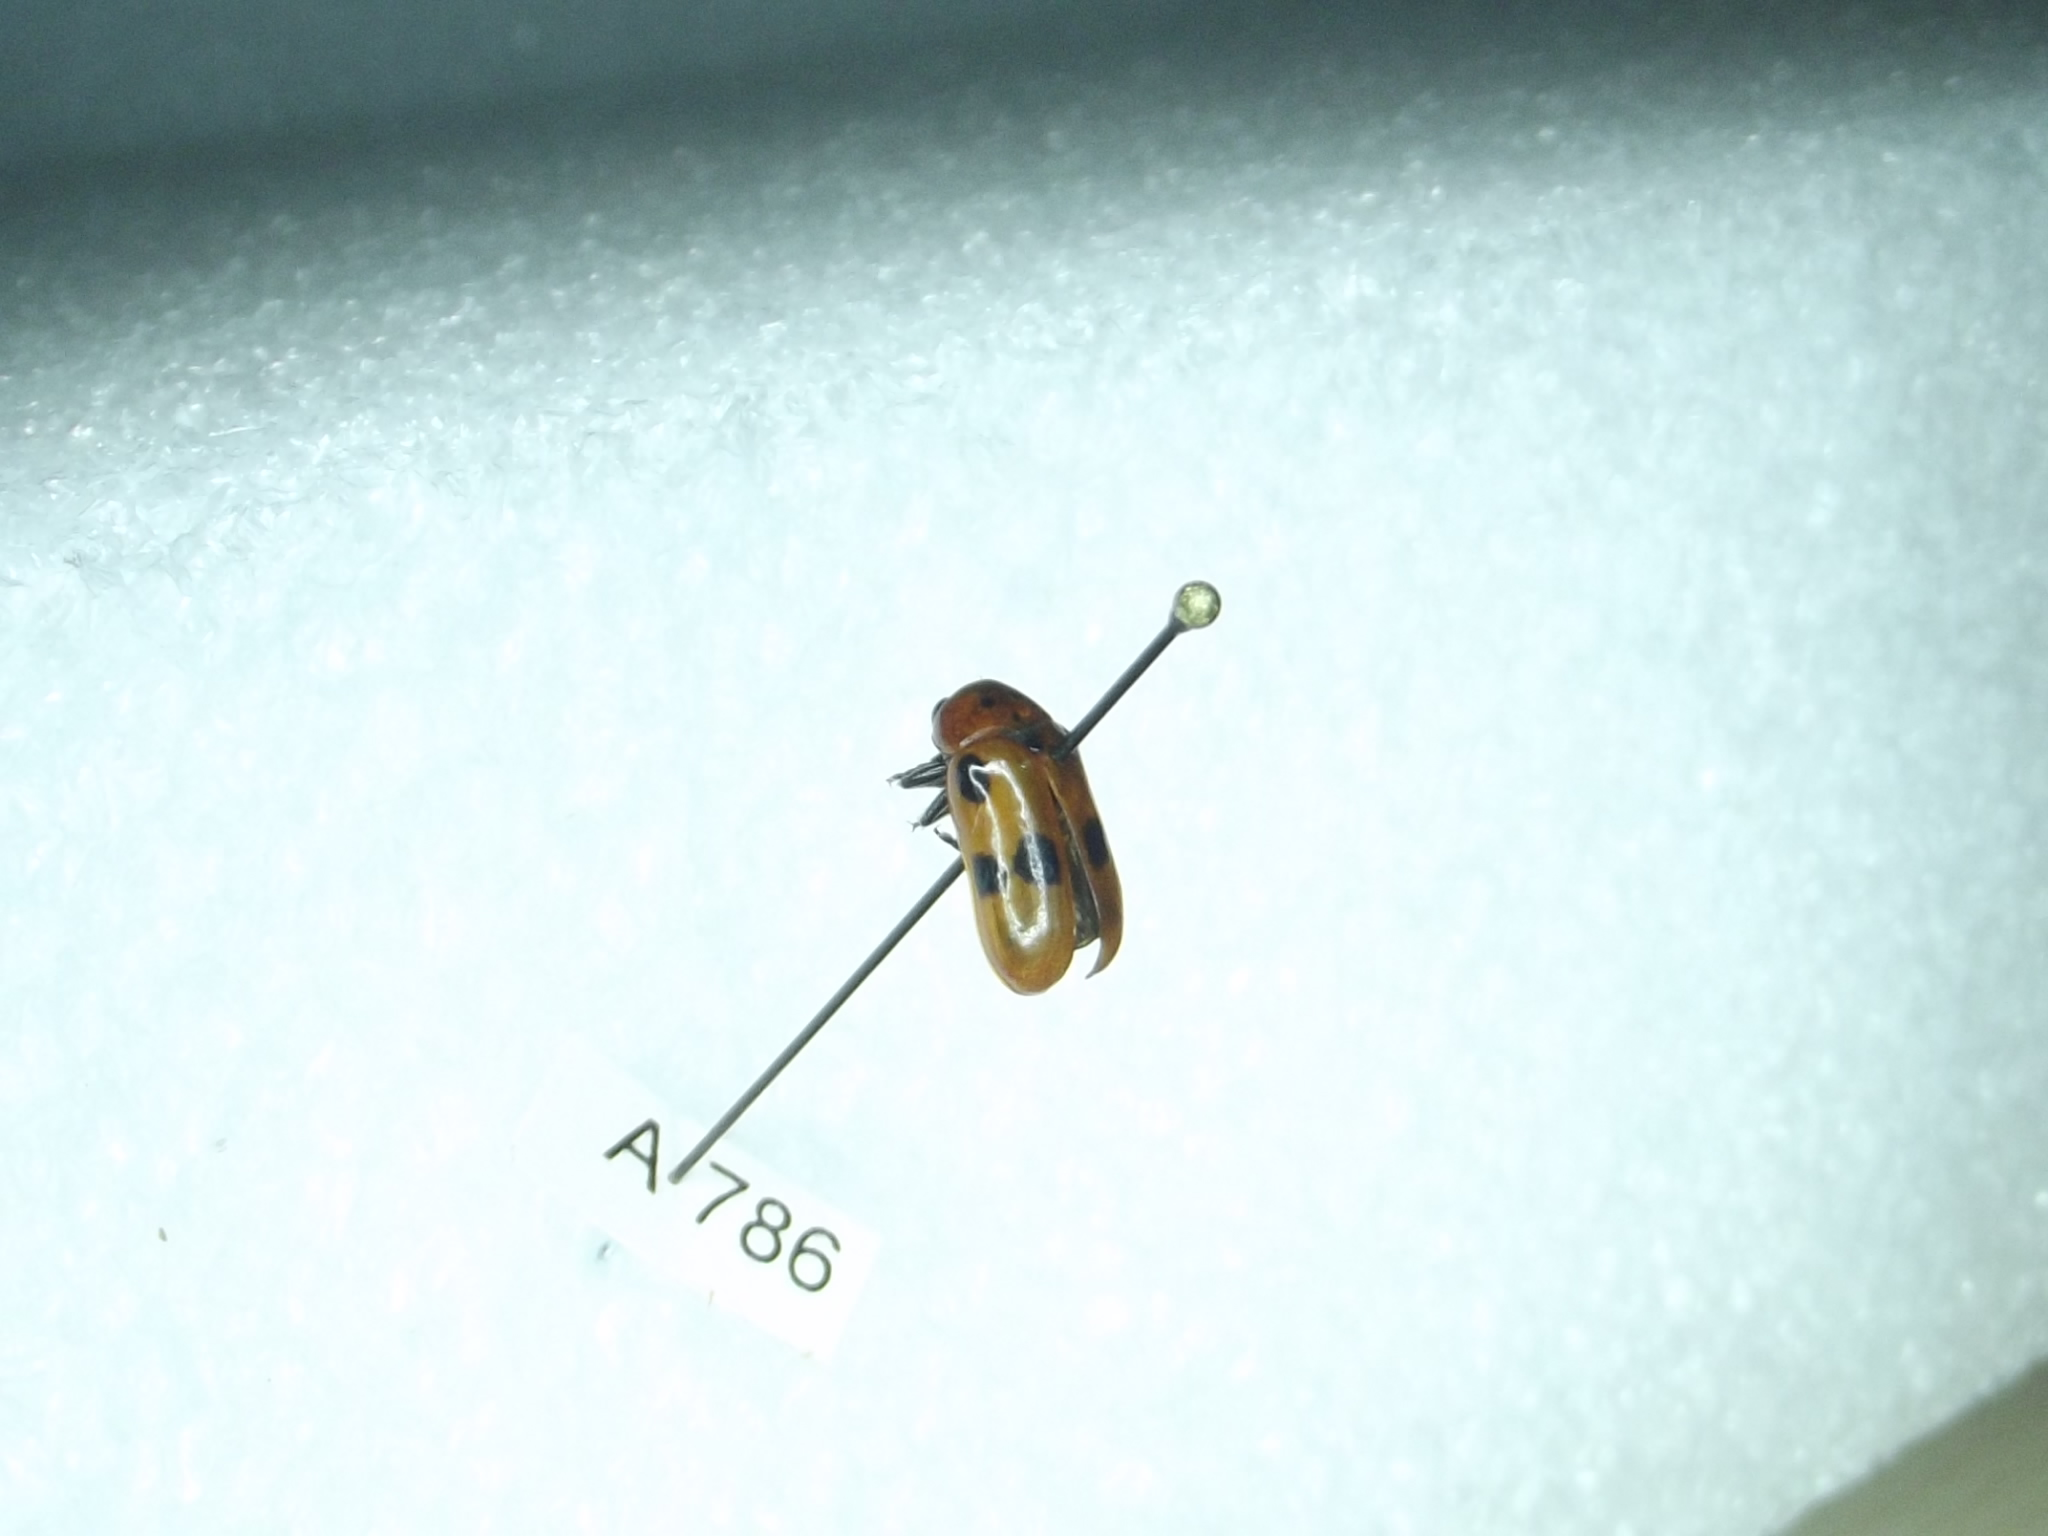Clytra_novempunctata: (885, 658, 1148, 994)
